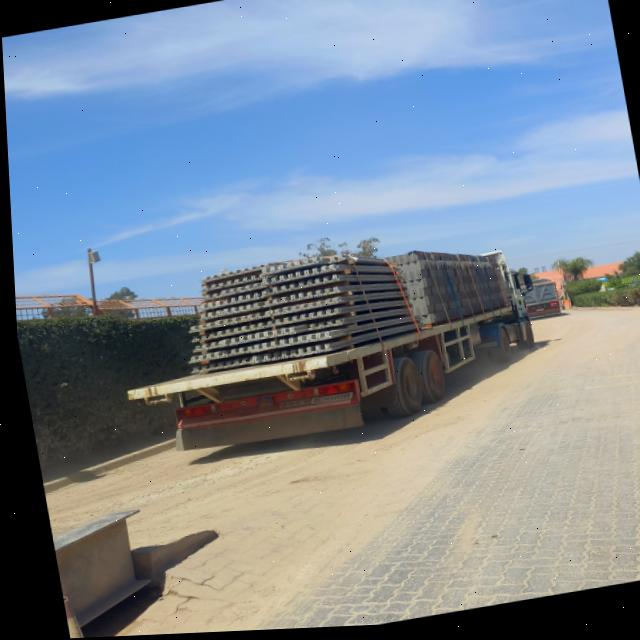bricks: (407, 252, 509, 323)
